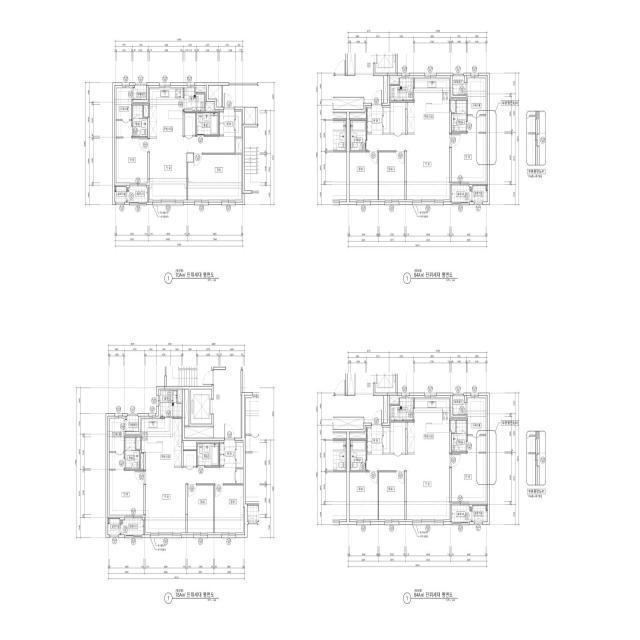space_balconi: (160, 391, 181, 417), (391, 398, 413, 421), (391, 78, 413, 101), (184, 88, 204, 111), (121, 518, 144, 535), (452, 505, 471, 522), (452, 185, 471, 202), (127, 186, 147, 202)
space_bedroom: (188, 154, 241, 200), (452, 453, 486, 502), (452, 133, 486, 182), (109, 470, 144, 515), (116, 138, 148, 183), (349, 472, 378, 520), (349, 152, 378, 200), (215, 485, 243, 533), (379, 472, 405, 520), (379, 152, 405, 200), (188, 485, 213, 533)
space_dressroom: (468, 398, 486, 452), (468, 78, 486, 132), (116, 88, 132, 137), (109, 418, 124, 469)
space_elevator: (191, 389, 212, 424)
space_elevator_hall: (214, 370, 241, 438)
space_front: (219, 109, 241, 137), (367, 425, 383, 453), (367, 105, 383, 133), (220, 439, 235, 467)
space_kitchen: (407, 398, 450, 453), (407, 78, 450, 133), (141, 418, 181, 466), (150, 88, 183, 137)
space_living_room: (146, 466, 235, 533), (367, 453, 450, 520), (367, 133, 450, 200), (150, 137, 235, 200)
space_other: (391, 422, 405, 453), (391, 102, 405, 133), (184, 427, 213, 438), (208, 86, 222, 107), (453, 396, 466, 415), (453, 76, 466, 95), (185, 113, 196, 135), (125, 416, 138, 432), (183, 451, 196, 466), (236, 442, 243, 468), (184, 389, 189, 425), (133, 86, 146, 99), (245, 108, 255, 124), (384, 428, 390, 453), (384, 108, 390, 133), (236, 469, 243, 484), (349, 433, 366, 439), (236, 138, 242, 153), (349, 114, 366, 119), (384, 396, 387, 423), (384, 76, 387, 103), (205, 103, 214, 111), (390, 398, 399, 404), (390, 78, 399, 84), (136, 437, 140, 449), (451, 420, 455, 432), (451, 100, 455, 112), (144, 105, 148, 117), (141, 454, 144, 469), (196, 88, 205, 93), (178, 391, 182, 402)
space_outdoor_room: (472, 506, 487, 522), (472, 186, 487, 202), (108, 519, 120, 535), (115, 186, 126, 202)
space_toilet: (350, 440, 366, 471), (350, 120, 366, 151), (197, 444, 219, 466), (125, 437, 140, 469), (133, 105, 148, 137), (197, 113, 218, 135), (452, 420, 466, 452), (452, 100, 466, 132)
